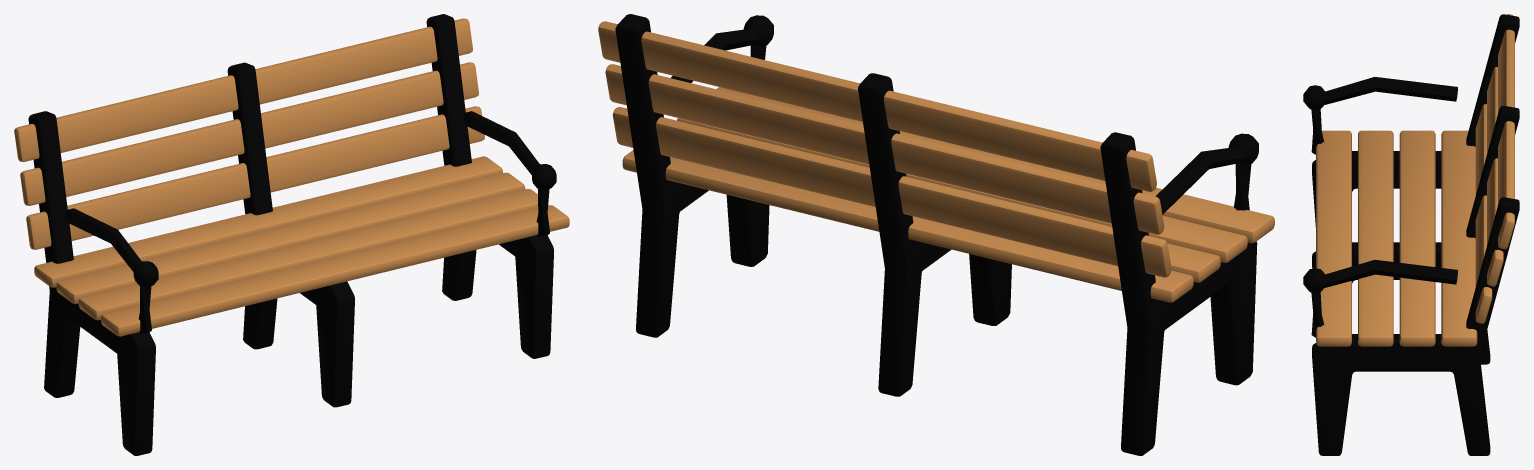
The model's file is lobby_bench.obj.
3 views of the same model, side by side, from view 1: azimuth 30°, elevation 25°; view 2: azimuth 150°, elevation 25°; view 3: azimuth 270°, elevation 25° (orthographic). The views are drawn at different scales.
Visible parts, largest first — view 1: lobby_bench; view 2: lobby_bench; view 3: lobby_bench.
Part boxes in pixels (x1,y1,x2,y2): lobby_bench: [14, 14, 569, 455]; lobby_bench: [598, 14, 1274, 455]; lobby_bench: [1303, 14, 1519, 455].
Bounding box in the file's own units: 6.6 × 3.74 × 2.9.
1 material, 1 textured.
